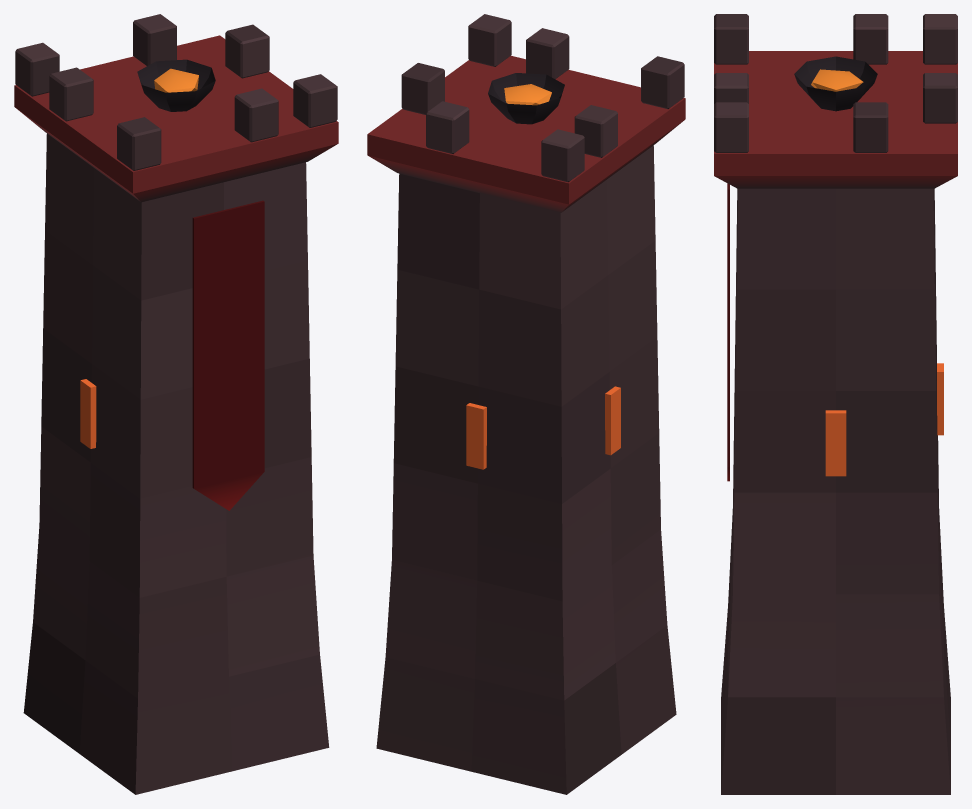
File: citadel_gatetower.glb
3 renders of one model, left to right at view 1: azimuth 30°, elevation 25°; view 2: azimuth 150°, elevation 25°; view 3: azimuth 270°, elevation 25°, orthographic. The views are drawn at different scales.
Visible parts, largest first — view 1: citadel_gatetower, citadel_gatetower_glow; view 2: citadel_gatetower, citadel_gatetower_glow; view 3: citadel_gatetower, citadel_gatetower_glow.
Boxes of the visible parts, x1=… form: citadel_gatetower: x1=14, y1=14, x2=338, y2=794; citadel_gatetower_glow: x1=80, y1=68, x2=198, y2=448; citadel_gatetower: x1=367, y1=14, x2=685, y2=794; citadel_gatetower_glow: x1=466, y1=84, x2=620, y2=469; citadel_gatetower: x1=714, y1=14, x2=957, y2=794; citadel_gatetower_glow: x1=811, y1=69, x2=943, y2=476.
Size of the model in its own units: 3.5 by 10.8 by 3.5.
